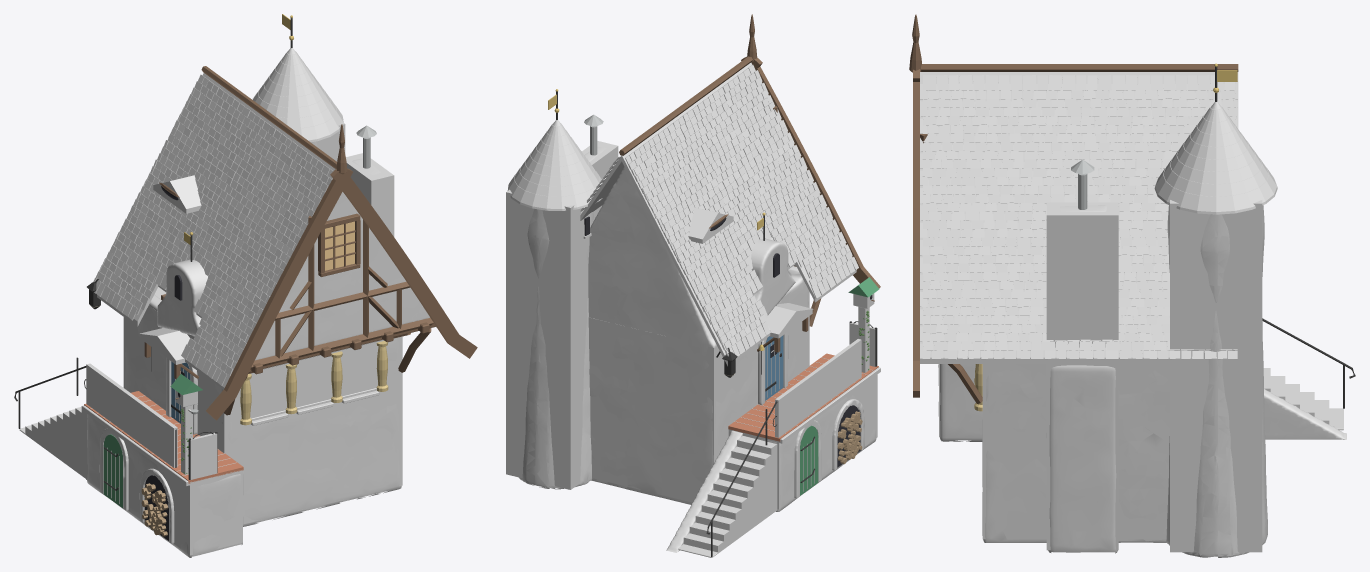
The model's file is RK_huisje.fbx.
The picture shows the model from 3 angles, left to right: view 1: azimuth 30°, elevation 25°; view 2: azimuth 150°, elevation 25°; view 3: azimuth 270°, elevation 25°; orthographic projection. The views are drawn at different scales.
Visible parts, largest first — view 1: static__TEX_lei_0, static__MAT_balk_0, COLL_0, static__TEX_stuc_0, static__TEX_lei_2, static__TEX_stuc_2, static__TEX_stuc_1, static__TEX_natuursteen_0, static__TEX_stuc_4, COLL_12, COLL_13, static__TEX_stuc_3 (+12 smaller); view 2: static__TEX_lei_0, static__TEX_stuc_0, COLL_16, COLL_0, static__TEX_natuursteen_0, static__TEX_lei_2, static__TEX_stuc_4, static__TEX_stuc_1, static__TEX_stuc_5, COLL_13, static__MAT_balk_0, static__TEX_hout_0 (+13 smaller); view 3: static__TEX_lei_1, static__TEX_lei_2, COLL_16, static__TEX_stuc_5, COLL_17, static__TEX_stuc_4, static__TEX_stuc_0, COLL_0, static__TEX_hout_0, static__MAT_balk_0, static__TEX_stuc_1, static__TEX_natuursteen_0 (+1 smaller).
Boxes of the visible parts, x1,y1,x2,y2 form: static__TEX_lei_0: [93, 87, 332, 387]; static__MAT_balk_0: [144, 66, 477, 420]; COLL_0: [123, 287, 402, 524]; static__TEX_stuc_0: [125, 295, 401, 526]; static__TEX_lei_2: [139, 48, 343, 364]; static__TEX_stuc_2: [262, 201, 422, 358]; static__TEX_stuc_1: [255, 193, 429, 426]; static__TEX_natuursteen_0: [19, 358, 236, 543]; static__TEX_stuc_4: [87, 141, 316, 557]; COLL_12: [86, 413, 242, 555]; COLL_13: [86, 363, 177, 467]; static__TEX_stuc_3: [157, 192, 429, 335]; static__TEX_lei_0: [631, 70, 858, 356]; static__TEX_stuc_0: [588, 169, 808, 504]; COLL_16: [506, 189, 601, 489]; COLL_0: [588, 290, 809, 502]; static__TEX_natuursteen_0: [583, 233, 880, 557]; static__TEX_lei_2: [507, 120, 813, 338]; static__TEX_stuc_4: [520, 209, 876, 552]; static__TEX_stuc_1: [588, 166, 795, 487]; static__TEX_stuc_5: [518, 146, 605, 489]; COLL_13: [775, 339, 861, 437]; static__MAT_balk_0: [619, 14, 880, 352]; static__TEX_hout_0: [580, 62, 874, 491]; static__TEX_lei_1: [920, 118, 1237, 359]; static__TEX_lei_2: [920, 75, 1277, 214]; COLL_16: [1170, 200, 1262, 552]; static__TEX_stuc_5: [1046, 205, 1267, 557]; COLL_17: [1046, 202, 1118, 550]; static__TEX_stuc_4: [938, 205, 1346, 557]; static__TEX_stuc_0: [982, 364, 1169, 542]; COLL_0: [982, 364, 1169, 539]; static__TEX_hout_0: [920, 72, 1238, 363]; static__MAT_balk_0: [909, 14, 1238, 403]; static__TEX_stuc_1: [933, 290, 1169, 542]; static__TEX_natuursteen_0: [1266, 376, 1343, 430].
Size of the model in its own units: 7.45 by 10.4 by 8.7.
